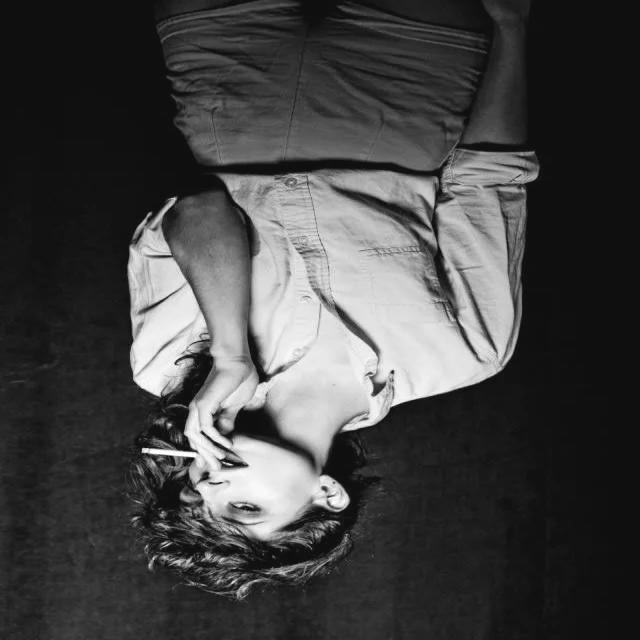smoke: (138, 440, 217, 462)
